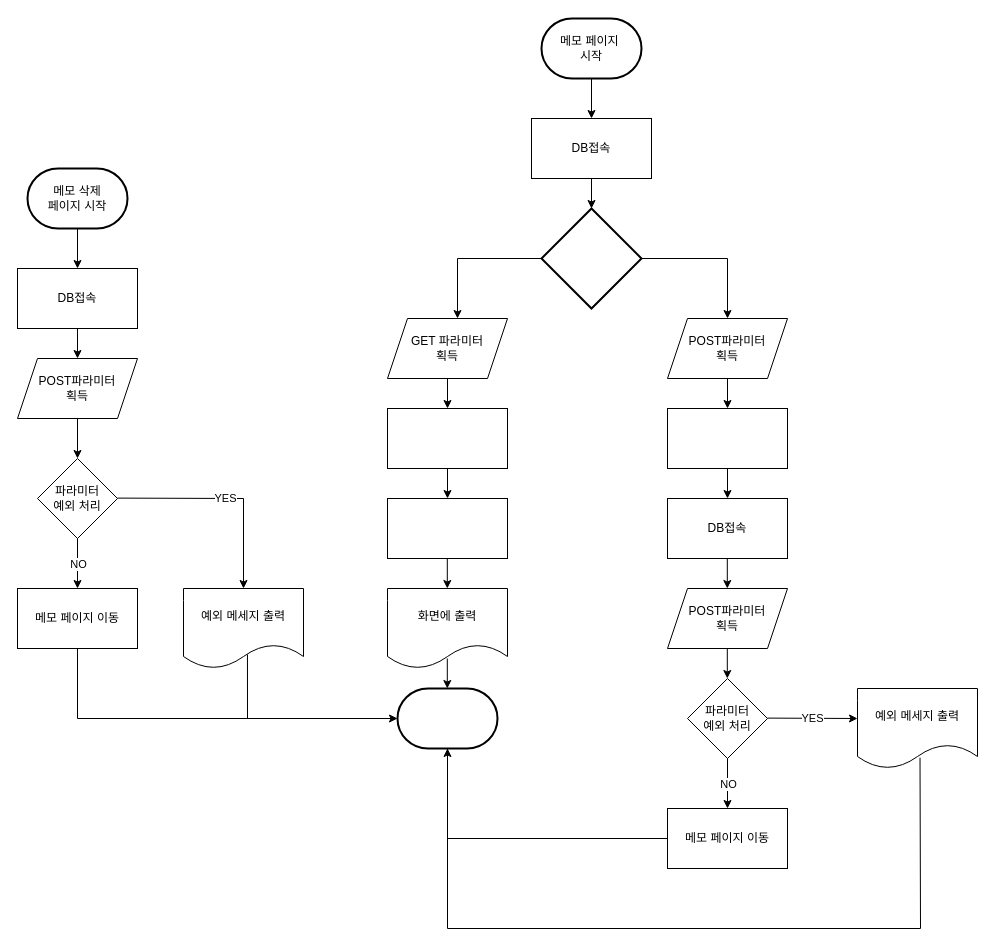
Image size: 995x947. Some labels were removed from this diagram. The centre of each missing label's shape, as x and y in pixels:
"DB에서 게시글 조회" goes at (447,438).
"memo_insert 처리 시작" goes at (727,438).
"게시글 획득" goes at (447,528).
"메모 페이지 종료" goes at (447,718).
"메소드 체크" goes at (591,258).
